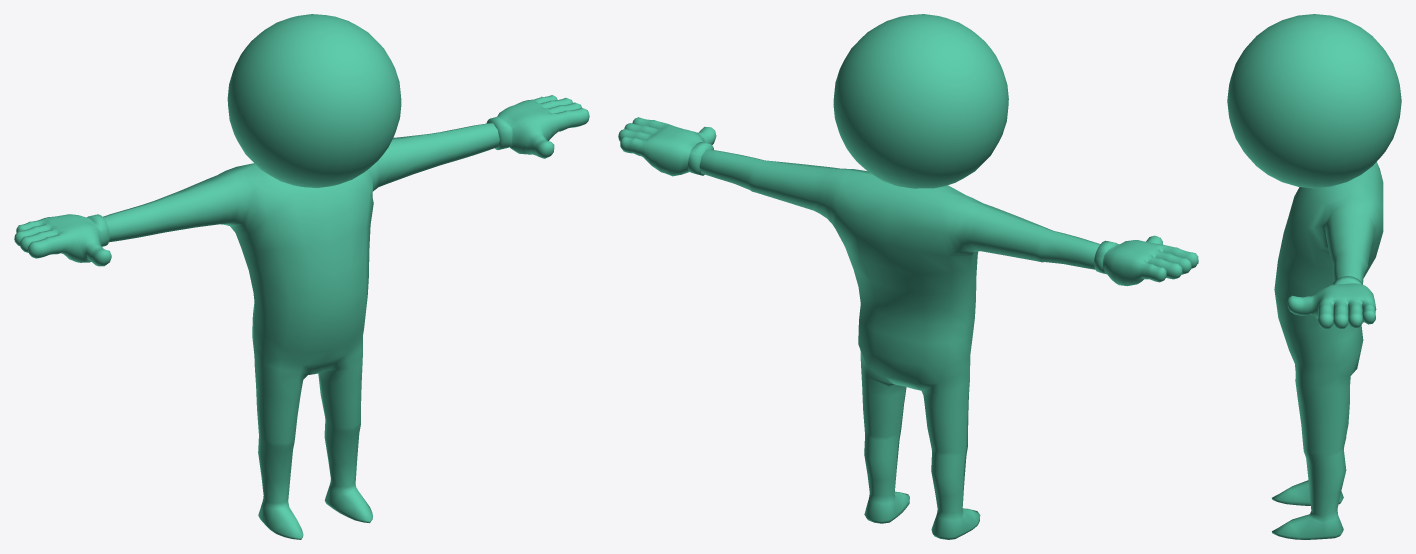
Rendered from gen1.fbx.
3 renders of one model, left to right at view 1: azimuth 30°, elevation 25°; view 2: azimuth 150°, elevation 25°; view 3: azimuth 270°, elevation 25°, orthographic.
Parts seen in each view (by area): view 1: Template_Character; view 2: Template_Character; view 3: Template_Character.
Part boxes in pixels (left/top/right/bottom): Template_Character: left=14, top=14, right=589, bottom=539; Template_Character: left=618, top=14, right=1198, bottom=539; Template_Character: left=1227, top=14, right=1401, bottom=539.
Bounding box in the file's own units: 1055 × 888 × 284.
